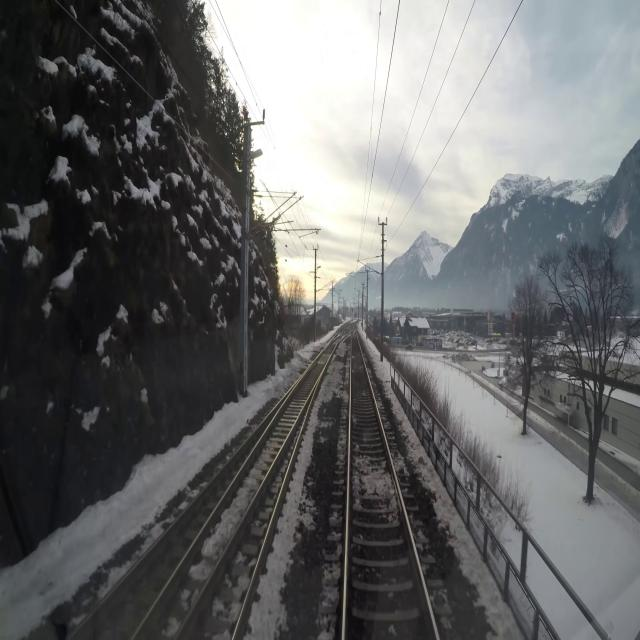rail-track: (136, 340, 336, 639), (71, 411, 274, 639), (178, 406, 306, 639), (347, 332, 435, 639)
